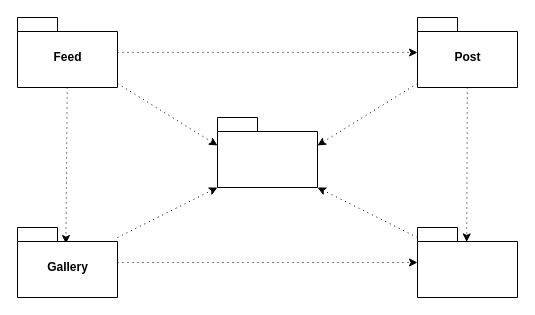
Some shapes in this 535 by 315 pixel diagram are drawn without their labels. Here are the shapes that lost their labels. From the top down, the centre of each, then its label:
(267,152): DatabaseControl
(467,262): User
